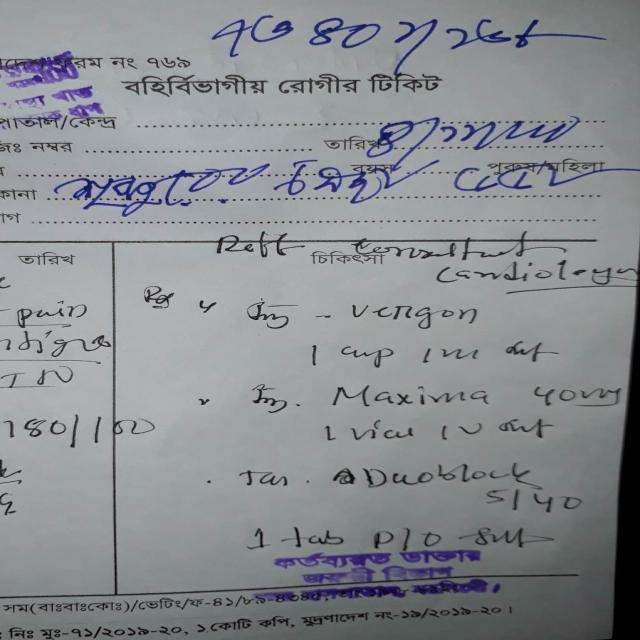Duoblock: (344, 453, 545, 486)
Maxima: (324, 382, 505, 415)
Vergon: (334, 293, 489, 330)
